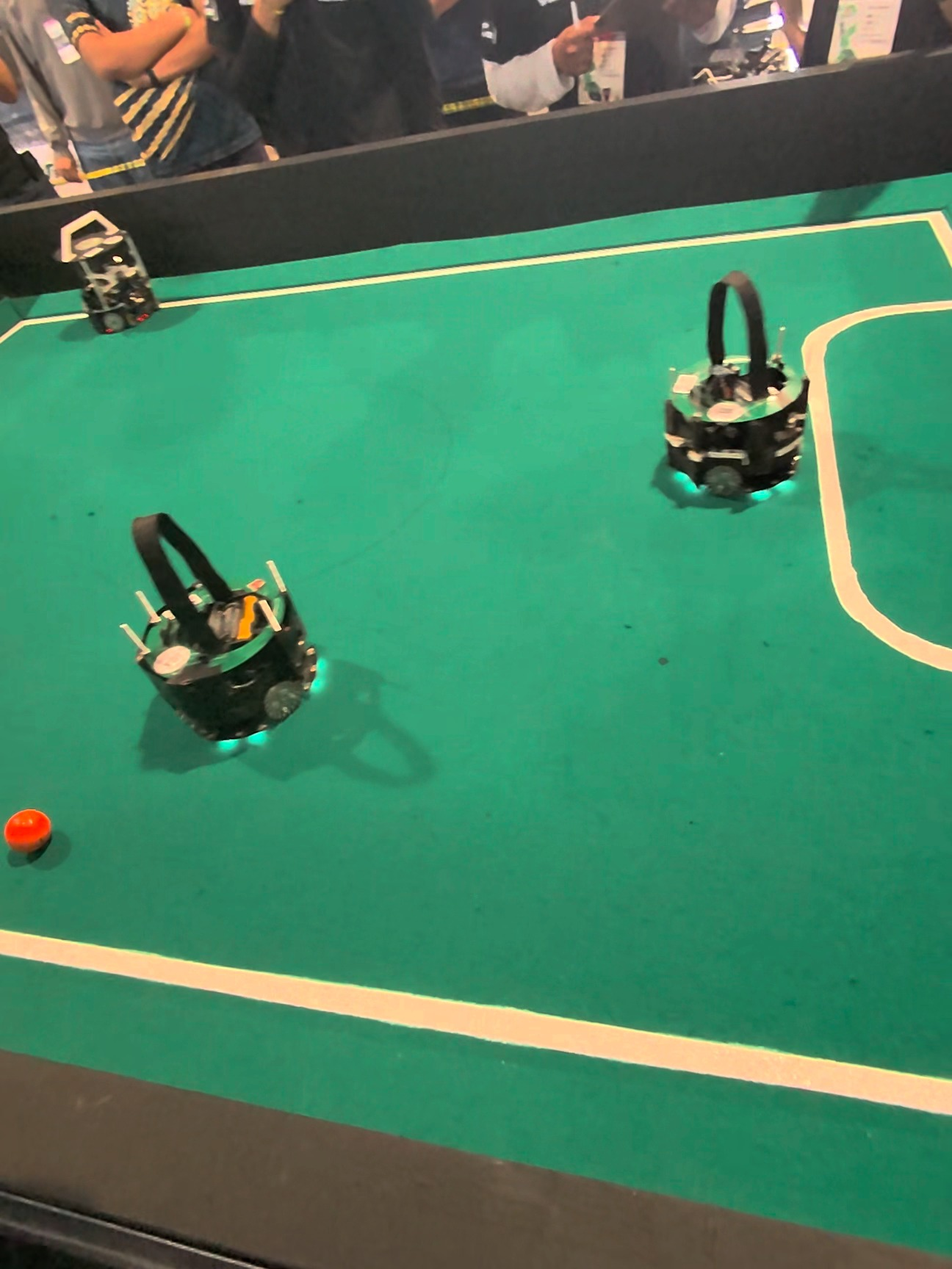Robot: (119, 469, 343, 783), (656, 258, 809, 530), (58, 196, 164, 349)
pelota: (4, 799, 53, 858)
